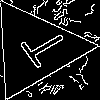T: (10, 23, 72, 74)
